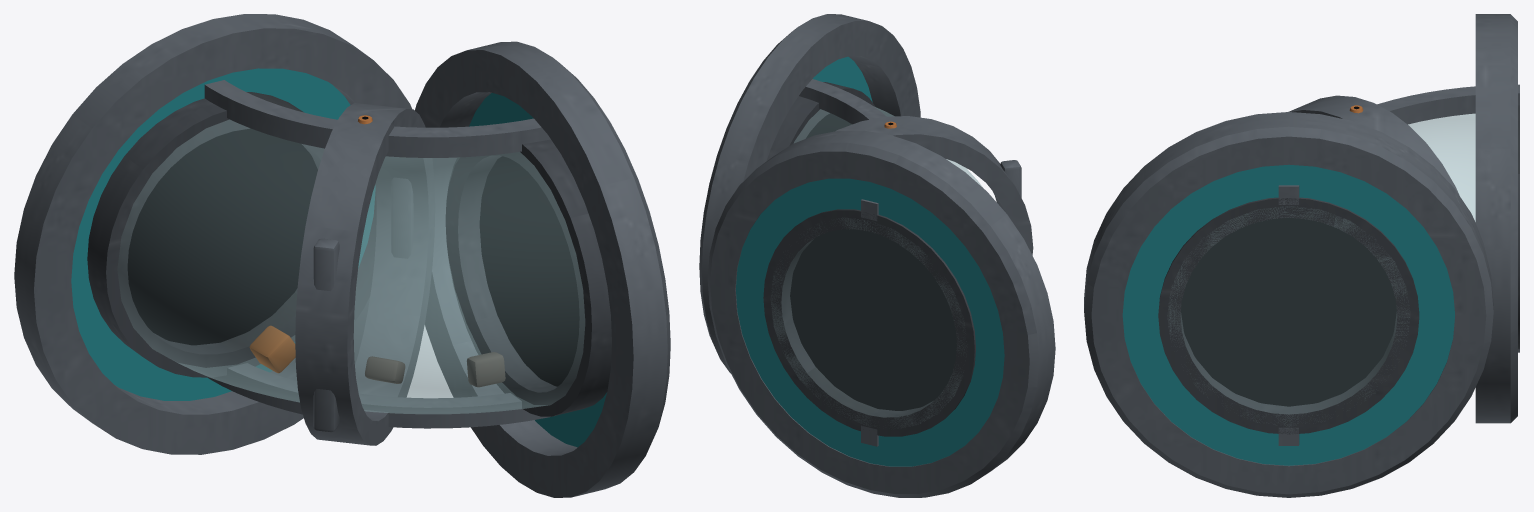
Rendered from vacuum_pipe_corner.glb.
3 renders of one model, left to right at view 1: azimuth 30°, elevation 25°; view 2: azimuth 150°, elevation 25°; view 3: azimuth 270°, elevation 25°, orthographic. The views are drawn at different scales.
Parts seen in each view (by area): view 1: Body; view 2: Body; view 3: Body.
Part boxes in pixels (left/top/right/bottom): Body: left=14, top=14, right=670, bottom=497; Body: left=699, top=14, right=1055, bottom=497; Body: left=1084, top=14, right=1519, bottom=497.
Size of the model in its own units: 0.2358 by 0.2217 by 0.2358.
Materials: 8 (3 with a texture image).
